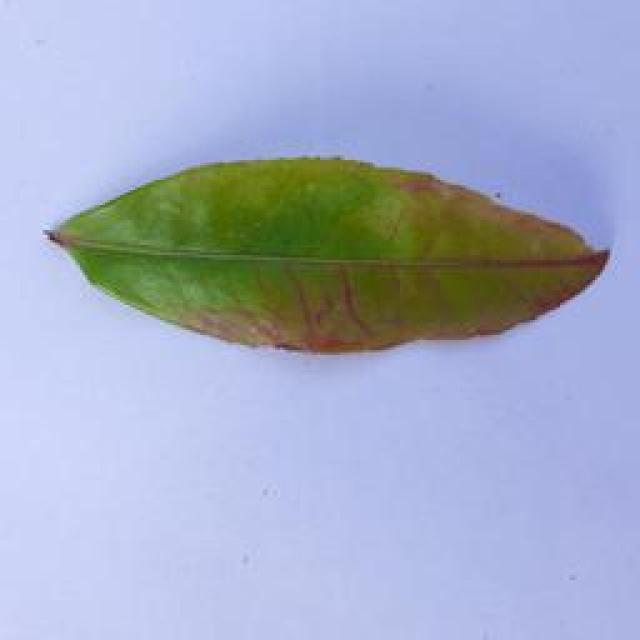Red Leaf Spot: (39, 139, 640, 340)
